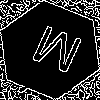M: (25, 25, 85, 83)
